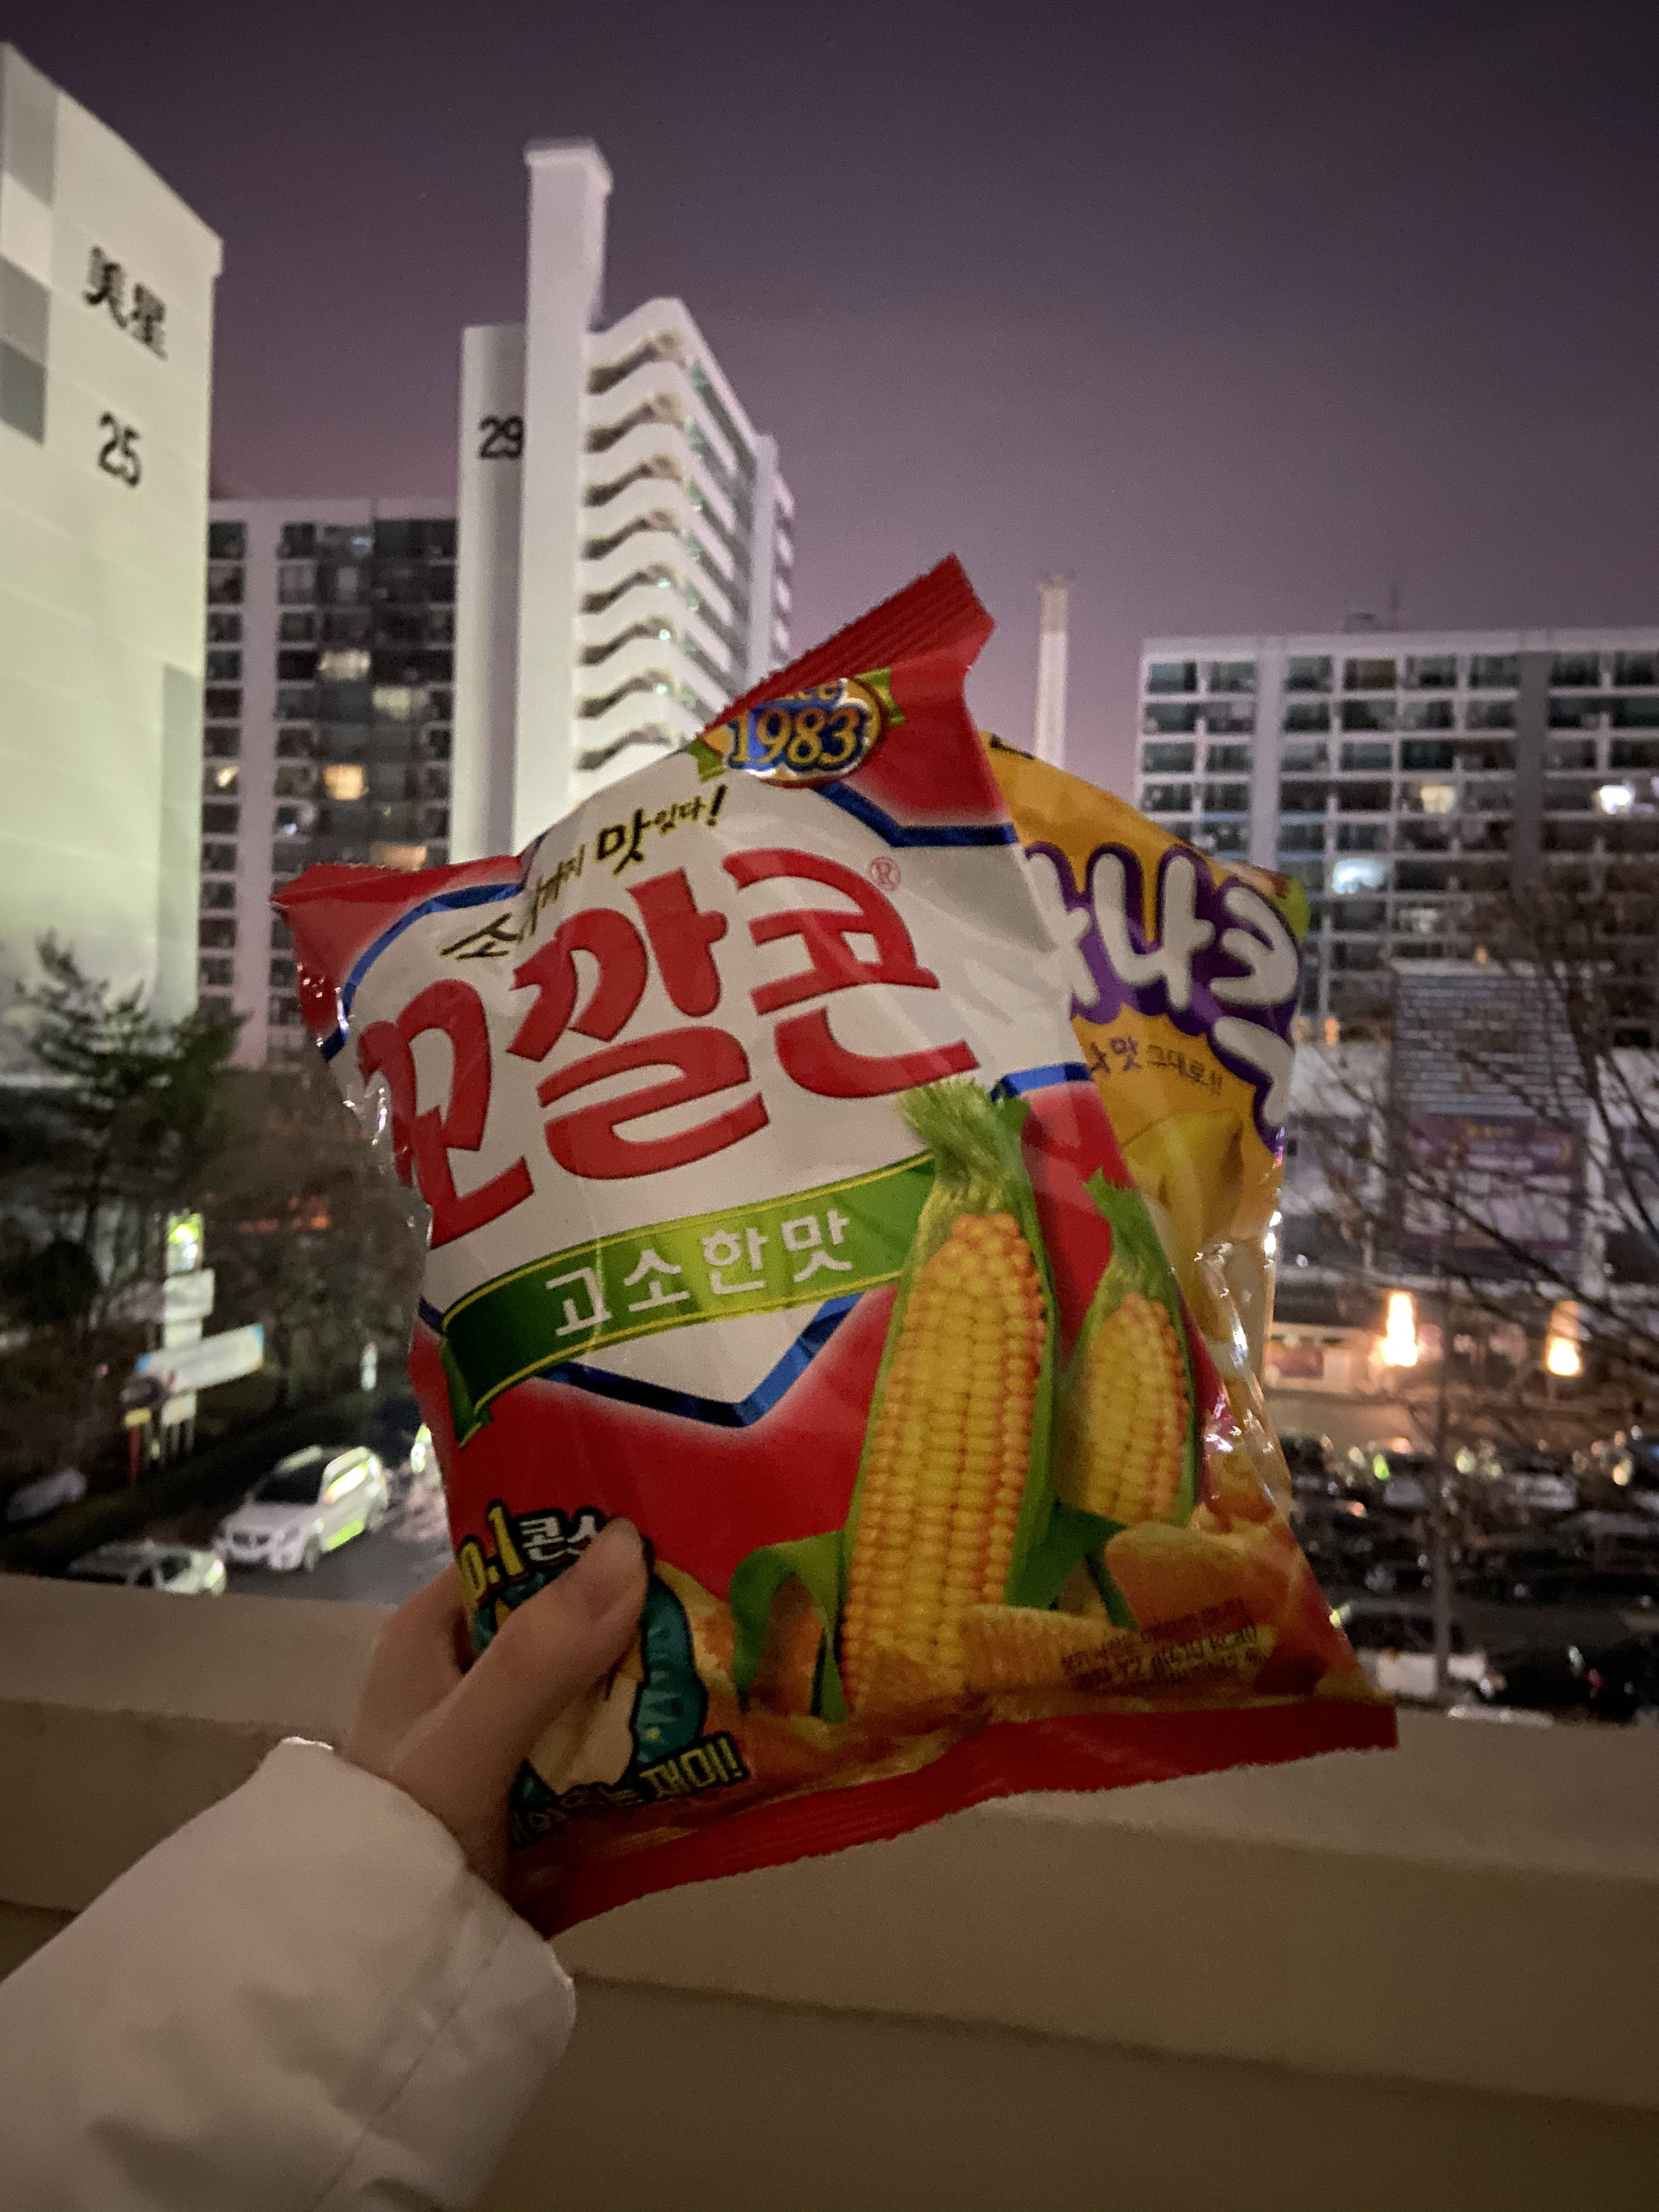banana: (948, 712, 1317, 1416)
ggoggalcon: (242, 543, 1436, 1970)
